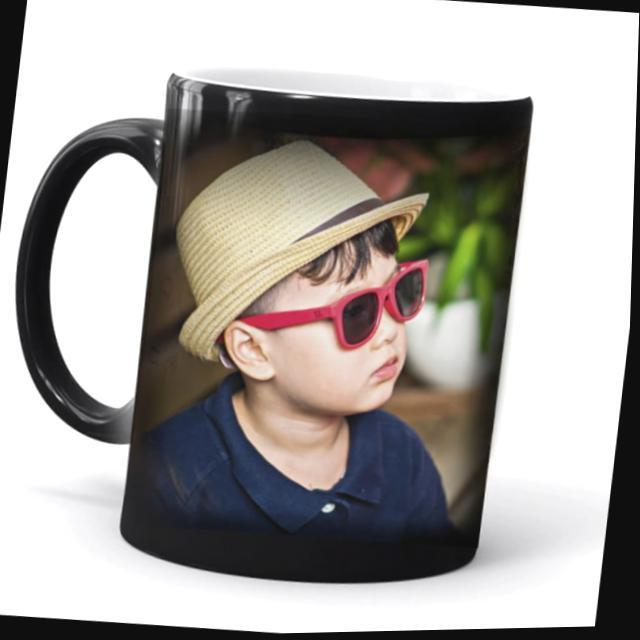cup: (0, 38, 546, 613)
